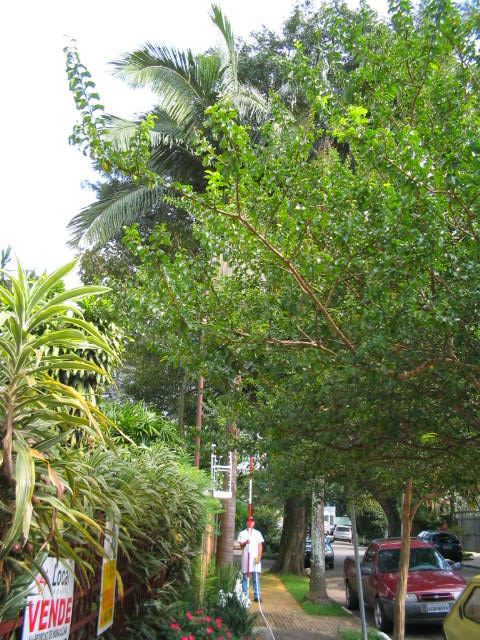stem: (306, 480, 337, 605), (275, 488, 311, 572)
stick: (242, 455, 259, 607)
